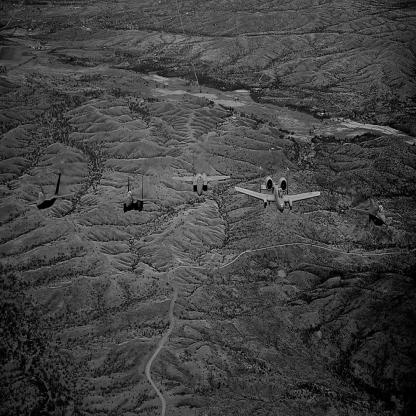A10: (235, 166, 321, 215)
F15: (173, 149, 232, 198), (109, 177, 161, 214)
F16: (348, 178, 403, 228)
F22: (24, 172, 77, 211)
